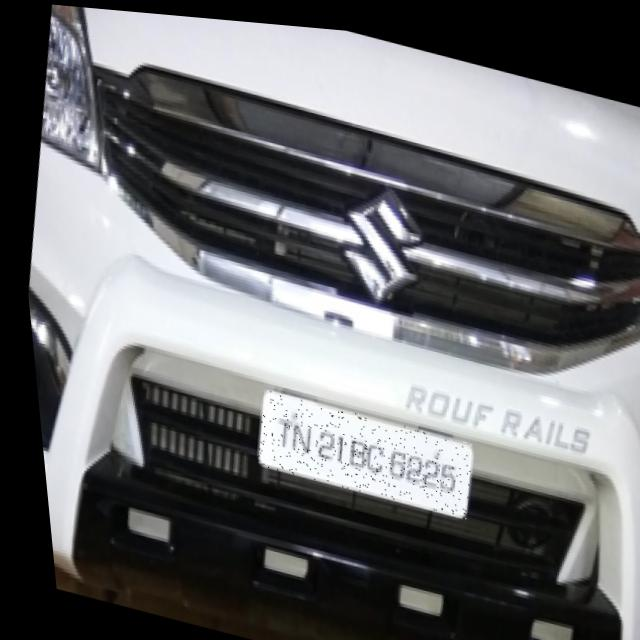license_plate: (243, 384, 470, 512)
